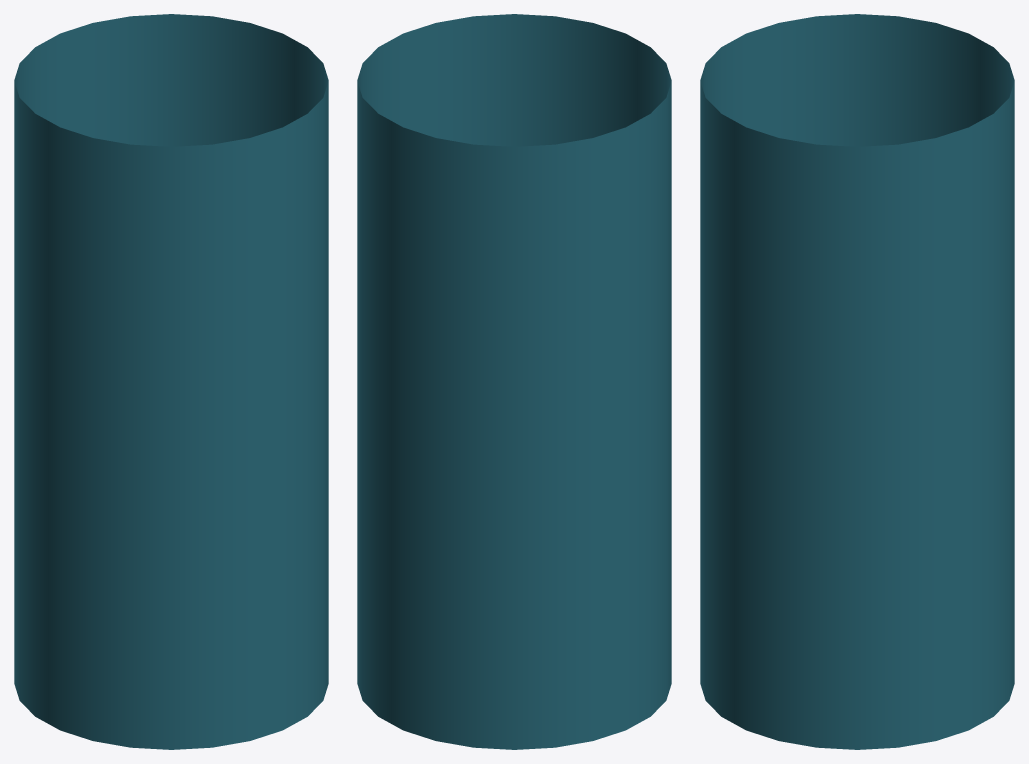
The model's file is uniform_1.FBX.
3 renders of one model, left to right at view 1: azimuth 30°, elevation 25°; view 2: azimuth 150°, elevation 25°; view 3: azimuth 270°, elevation 25°, orthographic.
Parts seen in each view (by area): view 1: round_high; view 2: round_high; view 3: round_high.
Part boxes in pixels (x1,y1,x2,y2): round_high: (14, 14, 328, 749); round_high: (357, 14, 671, 749); round_high: (700, 14, 1014, 749).
Size of the model in its own units: 10.01 by 21.18 by 10.01.
